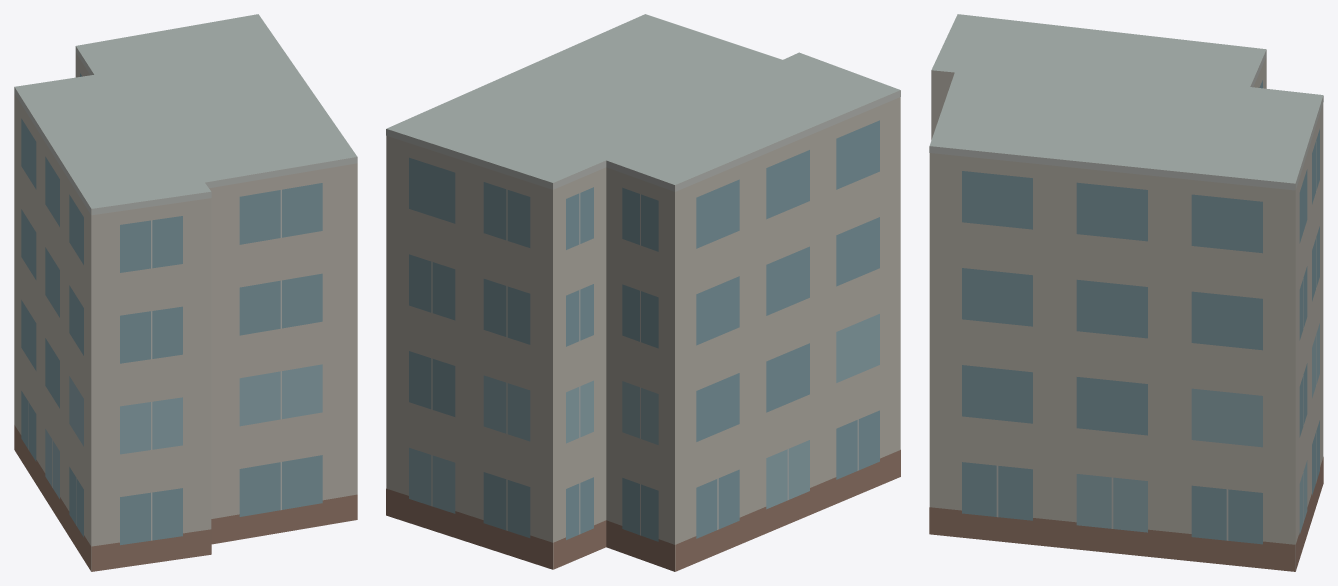
Rendered from survey-upis-32915242.glb.
3 views of the same model, side by side, from view 1: azimuth 30°, elevation 25°; view 2: azimuth 150°, elevation 25°; view 3: azimuth 270°, elevation 25° (orthographic). The views are drawn at different scales.
Visible parts, largest first — view 1: survey-upis-32915242.tmp; view 2: survey-upis-32915242.tmp; view 3: survey-upis-32915242.tmp.
Part boxes in pixels (x1,y1,x2,y2): survey-upis-32915242.tmp: (14, 14, 357, 571); survey-upis-32915242.tmp: (386, 14, 900, 571); survey-upis-32915242.tmp: (929, 14, 1323, 571).
Bounding box in the file's own units: 12.94 × 13.8 × 12.7.
